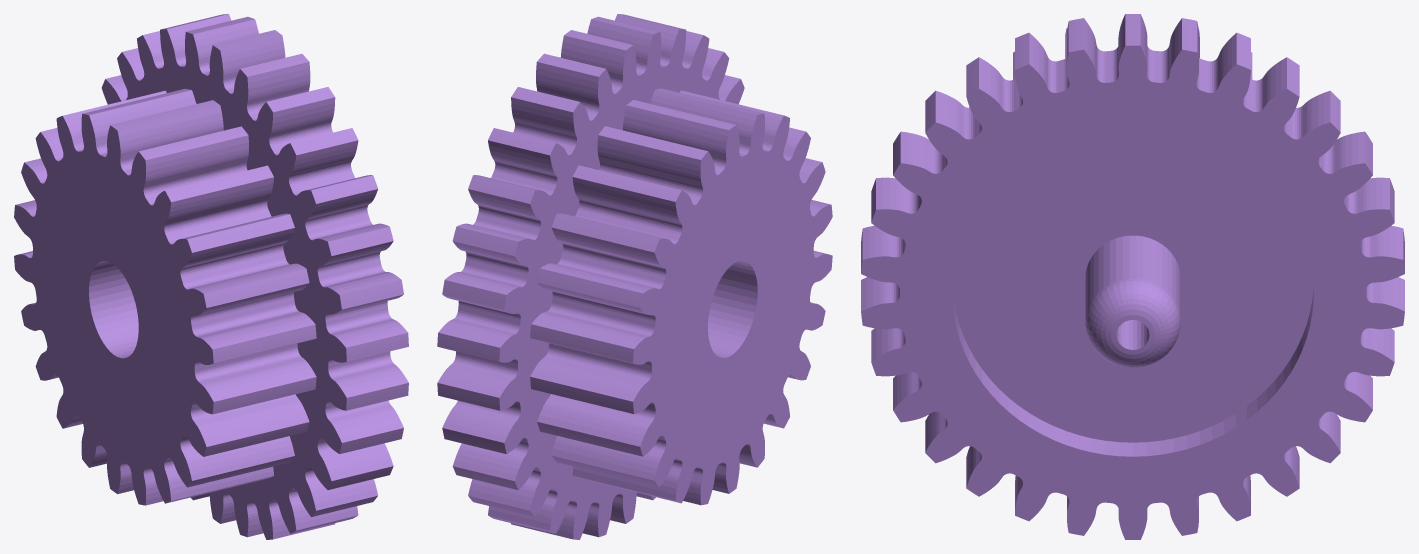
Rendered from gear--model.glb.
3 renders of one model, left to right at view 1: azimuth 30°, elevation 25°; view 2: azimuth 150°, elevation 25°; view 3: azimuth 270°, elevation 25°, orthographic. The views are drawn at different scales.
Visible parts, largest first — view 1: Gear Wheel v2; view 2: Gear Wheel v2; view 3: Gear Wheel v2.
Boxes of the visible parts, x1=… form: Gear Wheel v2: x1=14, y1=14, x2=408, y2=539; Gear Wheel v2: x1=437, y1=14, x2=832, y2=539; Gear Wheel v2: x1=861, y1=14, x2=1404, y2=539.
Bounding box in the file's own units: 7.18 × 13.12 × 13.08.
